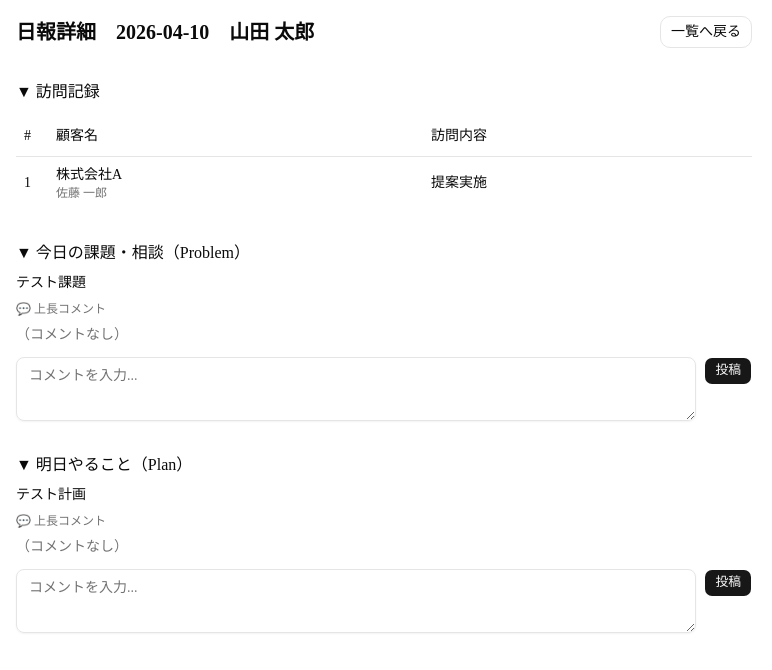
SCR-T-004-9: コメント未入力で投稿 › コメントを空のまま投稿すると「コメントを入力してください」が表示される
Click the 1st button "投稿".
click(728, 370)  # box [704, 356, 752, 384]
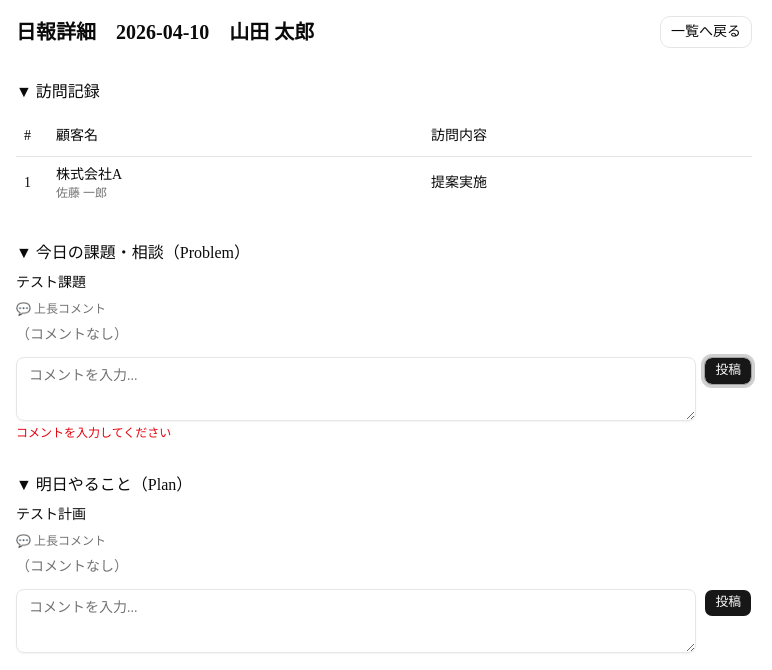
expect the text "コメントを入力してください" is shown: met, box [16, 426, 171, 440]
